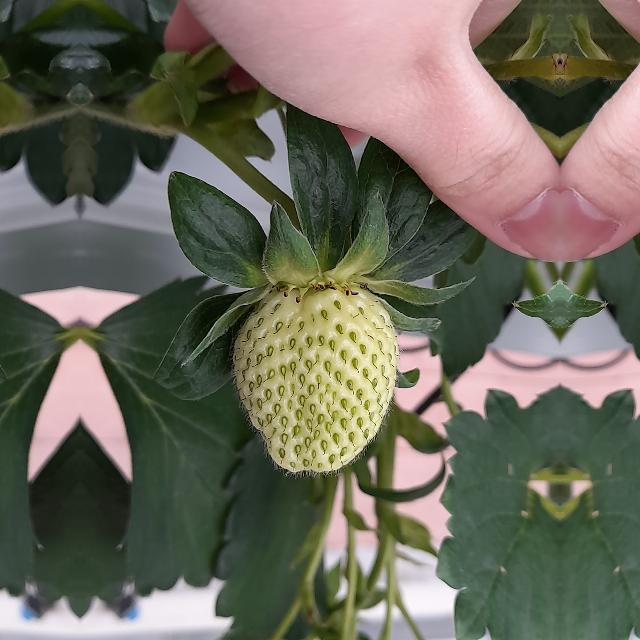Health_25: (232, 286, 398, 472)
